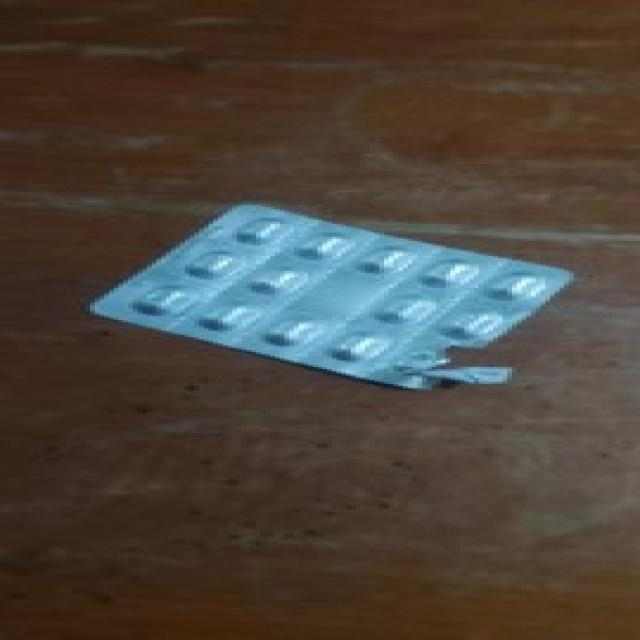Cacat: (92, 202, 574, 396)
Kemasan: (382, 349, 534, 393)
